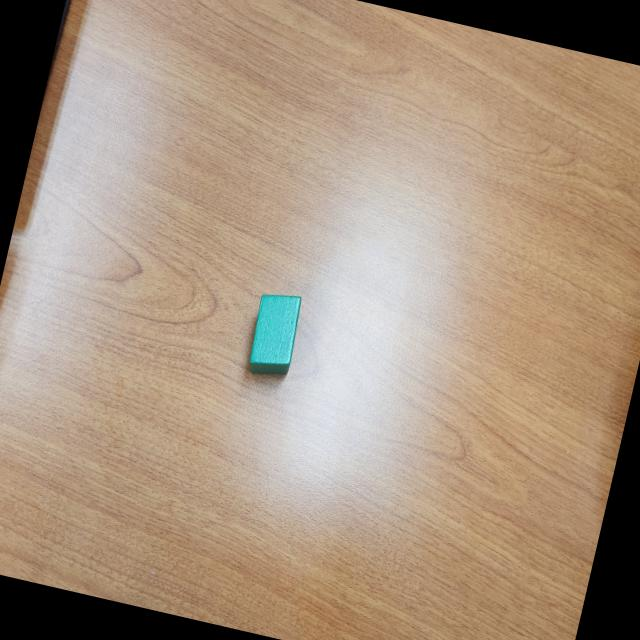green: (243, 287, 306, 382)
